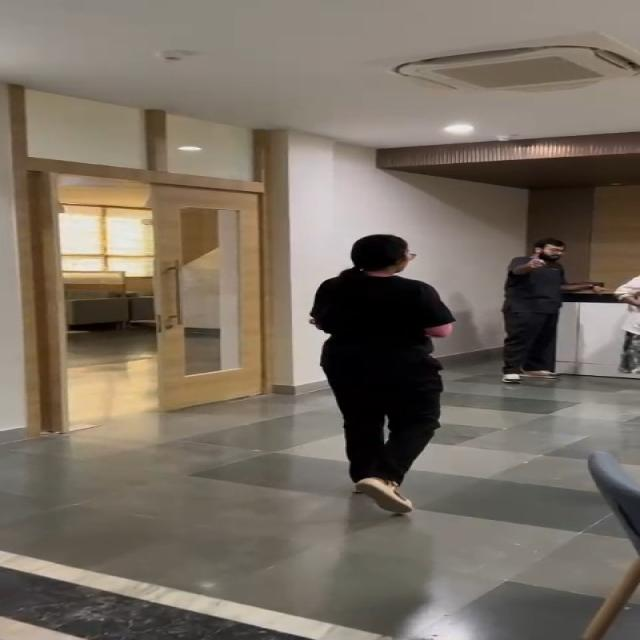door: (1, 147, 274, 416)
floor: (0, 438, 343, 640), (311, 504, 620, 637), (454, 384, 640, 467)
furniture: (568, 474, 640, 639)
moving_object: (315, 234, 456, 534), (499, 232, 592, 388)
wall: (294, 150, 532, 238), (534, 134, 640, 238)
